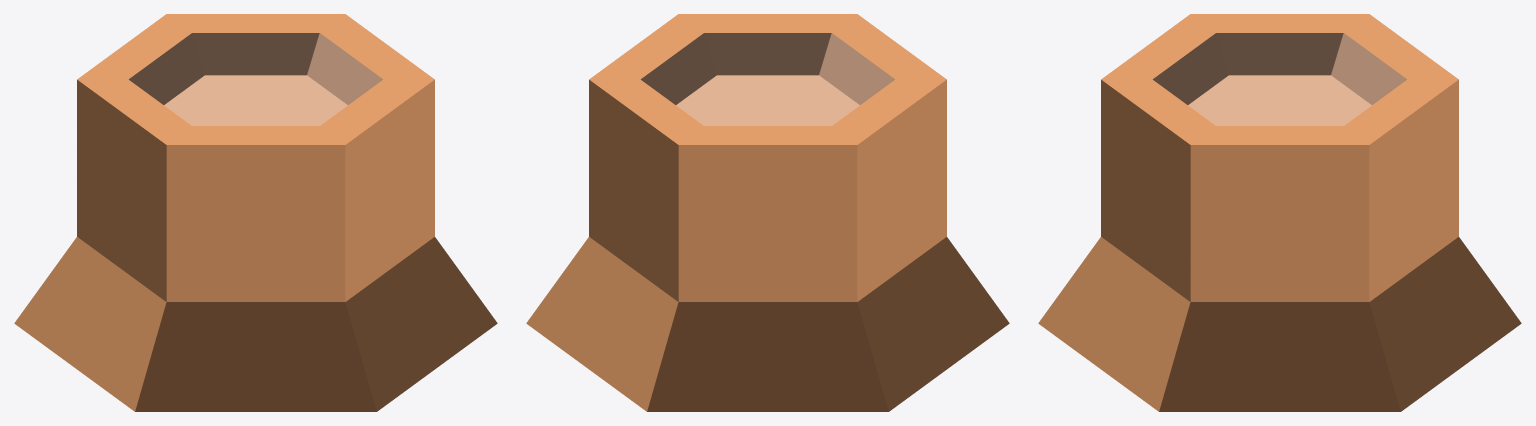
Rendered from treeStump_round.obj.
3 renders of one model, left to right at view 1: azimuth 30°, elevation 25°; view 2: azimuth 150°, elevation 25°; view 3: azimuth 270°, elevation 25°, orthographic.
Visible parts, largest first — view 1: treeStump_round; view 2: treeStump_round; view 3: treeStump_round.
Part boxes in pixels (bbox=[...]): treeStump_round: bbox=[14, 14, 497, 411]; treeStump_round: bbox=[526, 14, 1009, 411]; treeStump_round: bbox=[1038, 14, 1521, 411].
Bounding box in the file's own units: 3.21 × 2.07 × 3.71.
